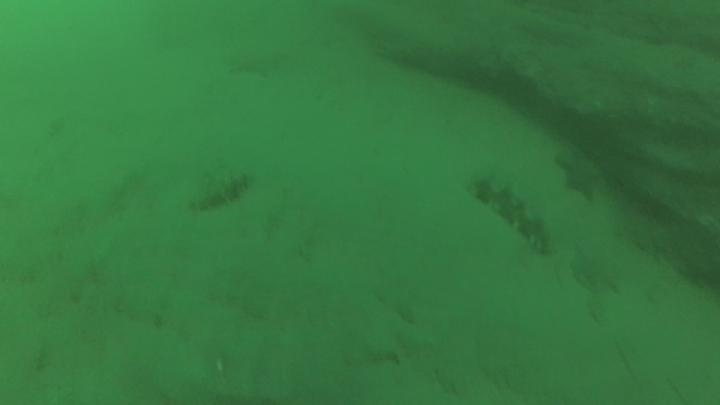holothurian: (467, 171, 557, 258), (185, 165, 255, 215)
starfish: (553, 147, 607, 205)
